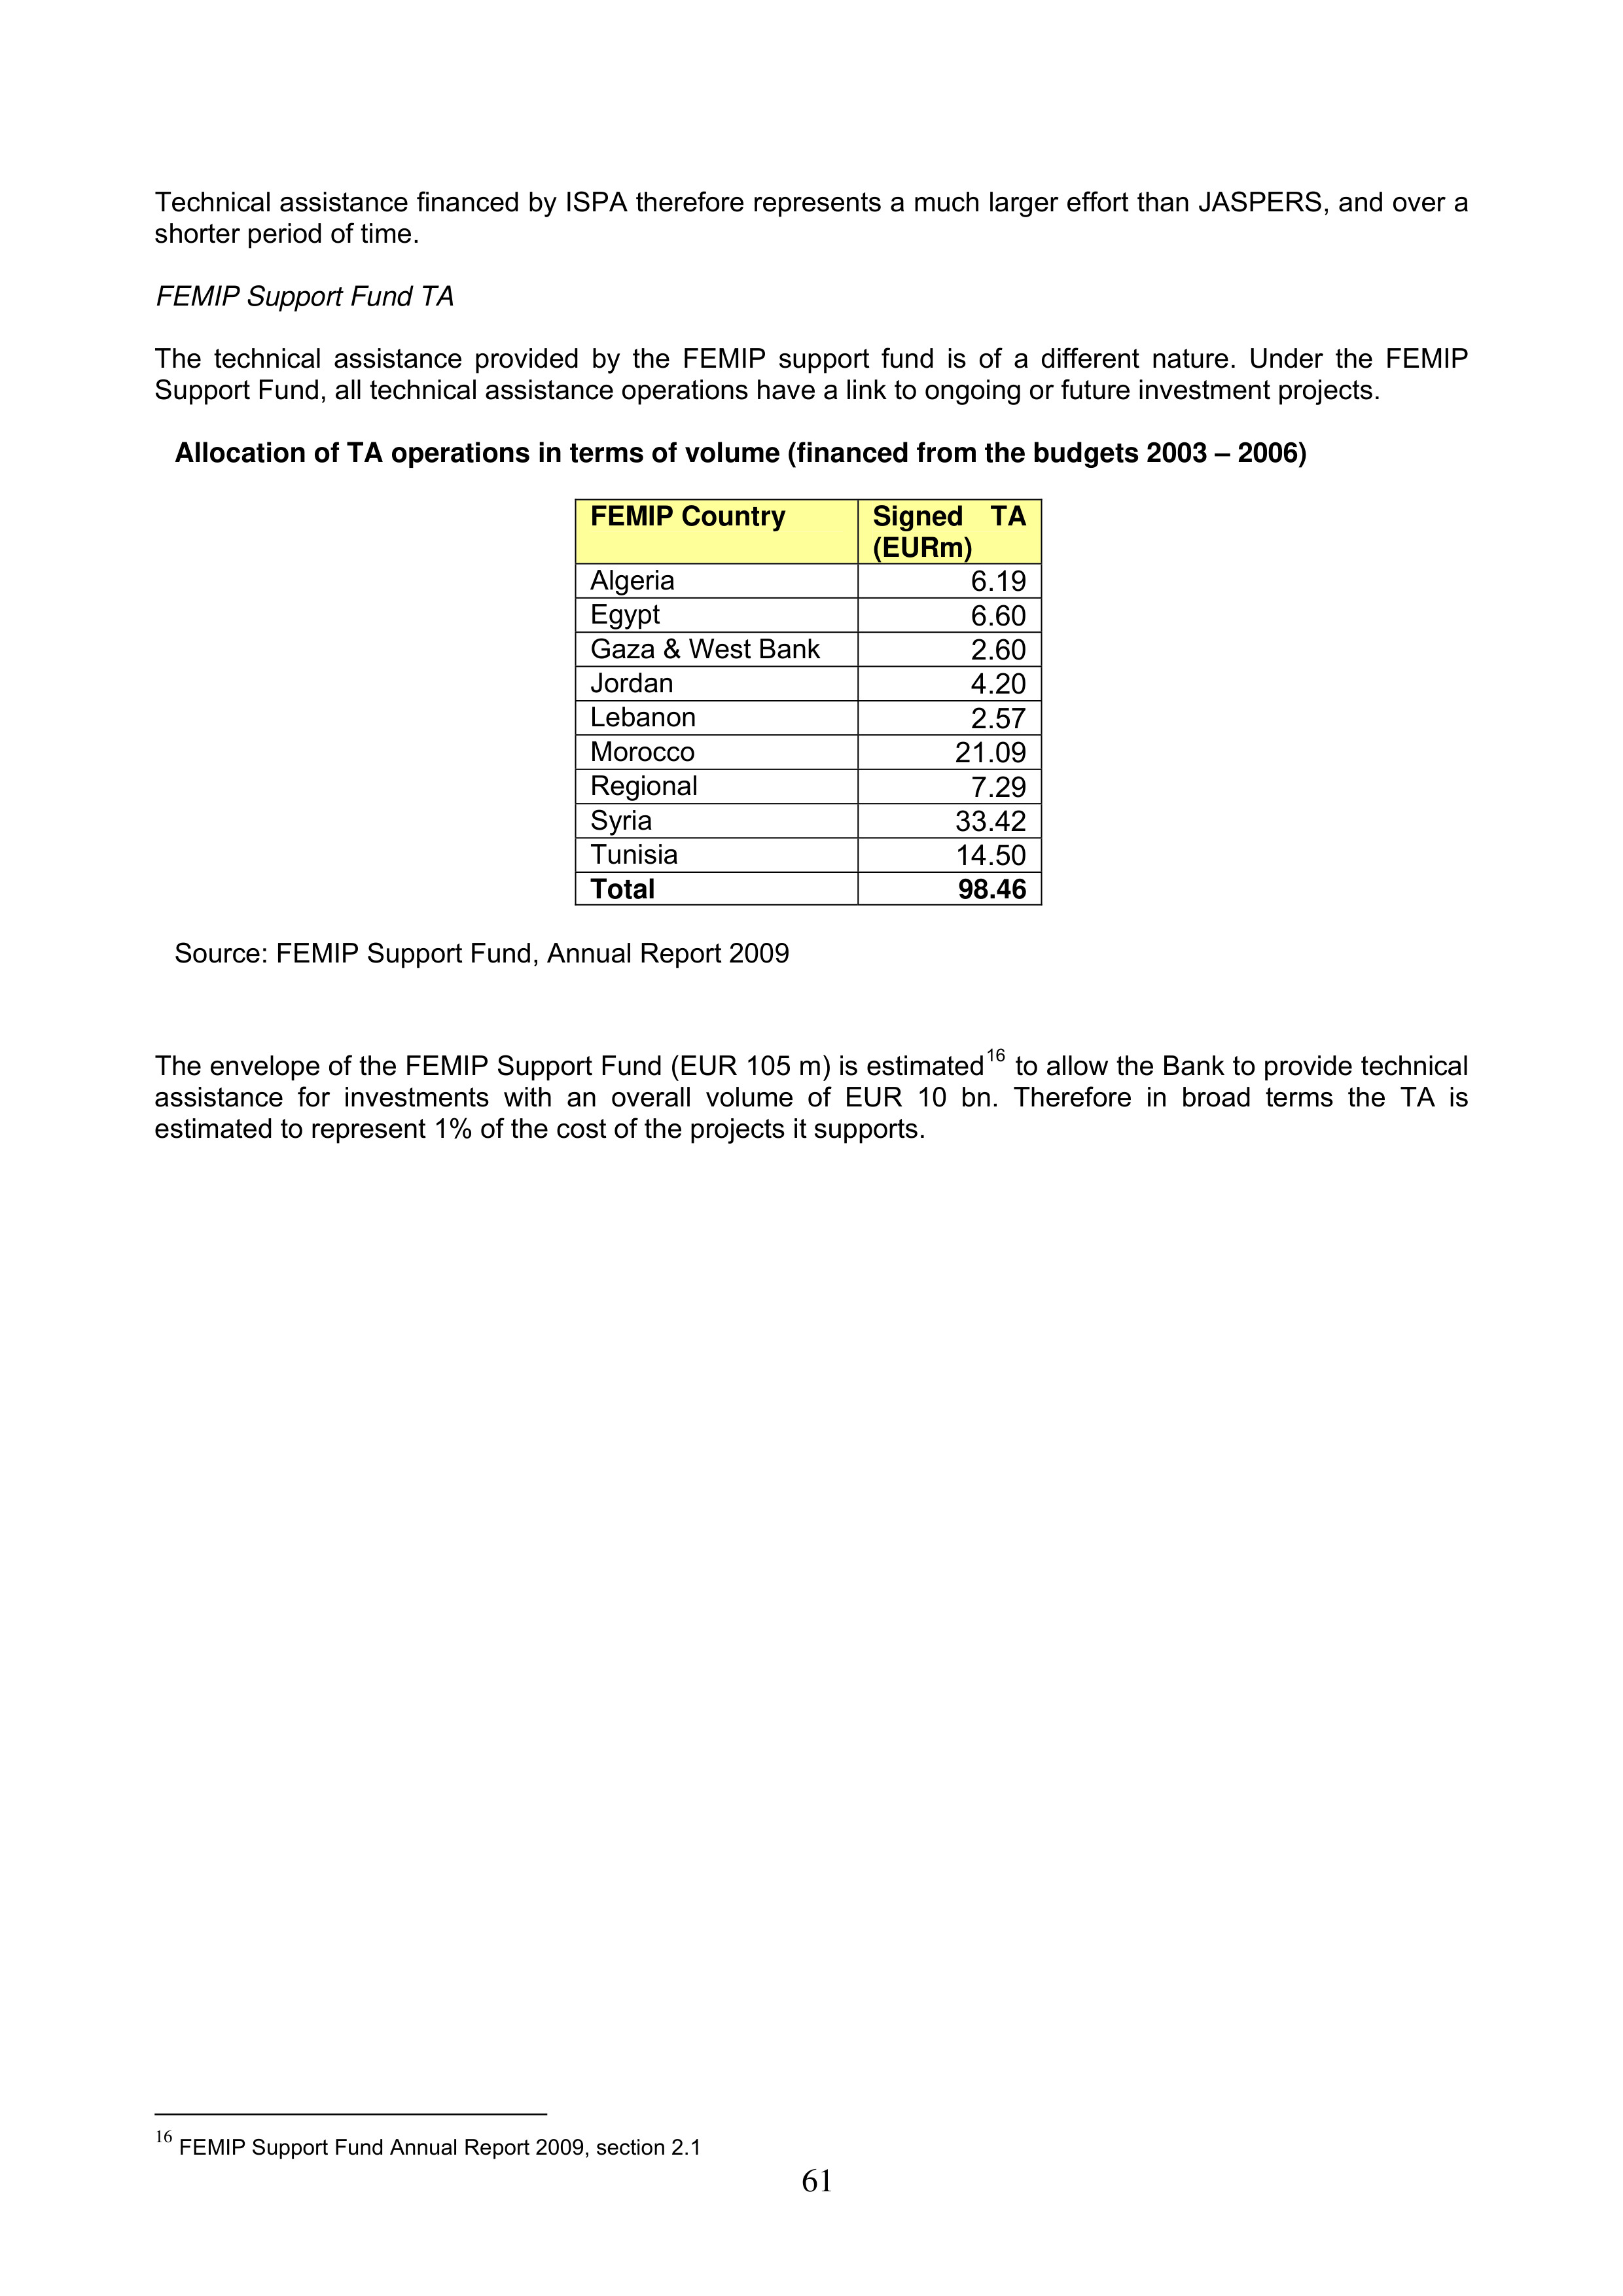table: (590, 497, 1028, 906)
